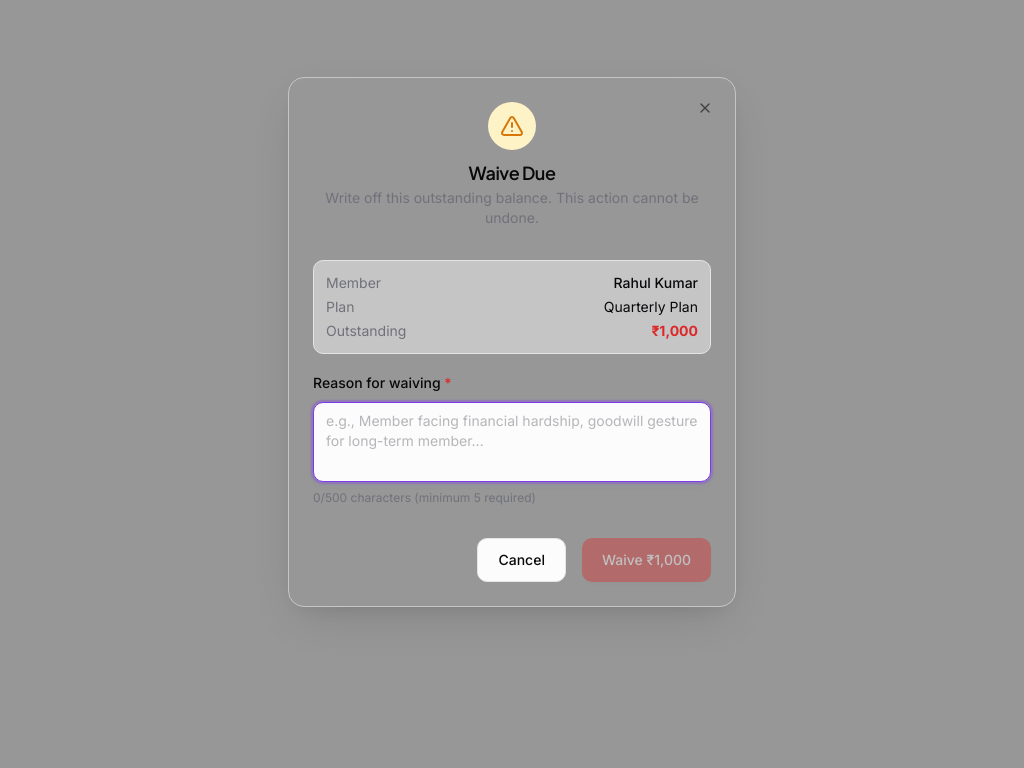
Test case: WaiveDueModal › enables submit when reason is 5+ chars
The image size is (1024, 768).
Replace the text in the text box labelled "Reason for waiving *" with "Member hardship case" at (512, 442), box [313, 402, 711, 482]
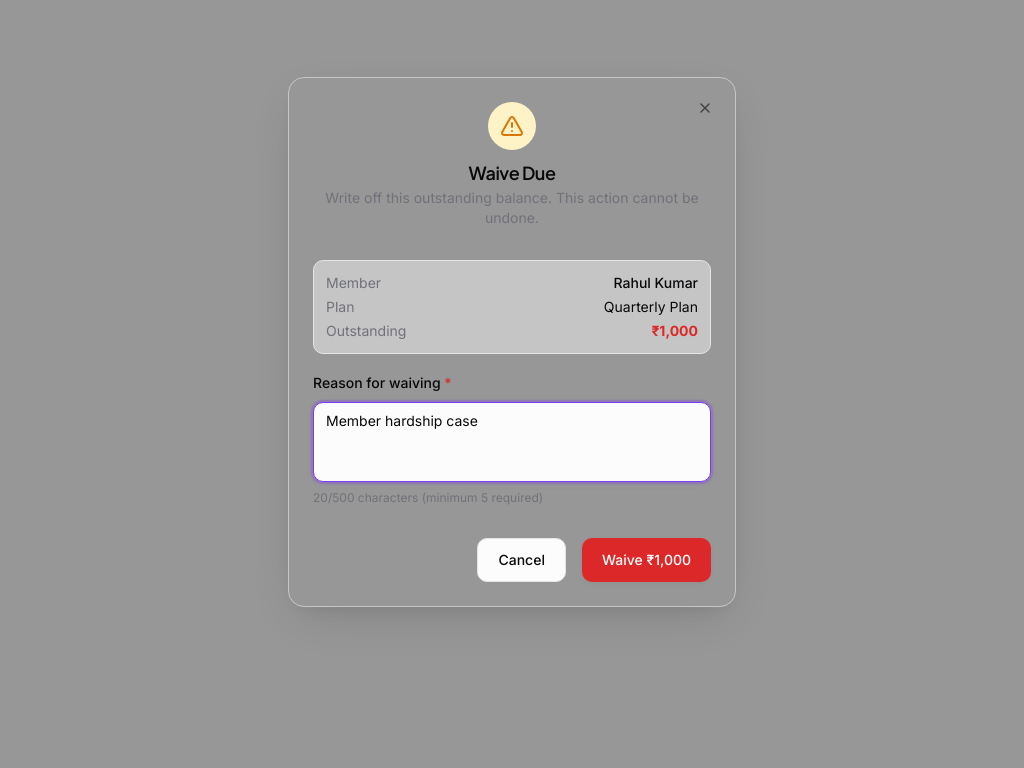
Check: the button "Waive ₹1,000" is enabled, box [582, 538, 711, 582]
